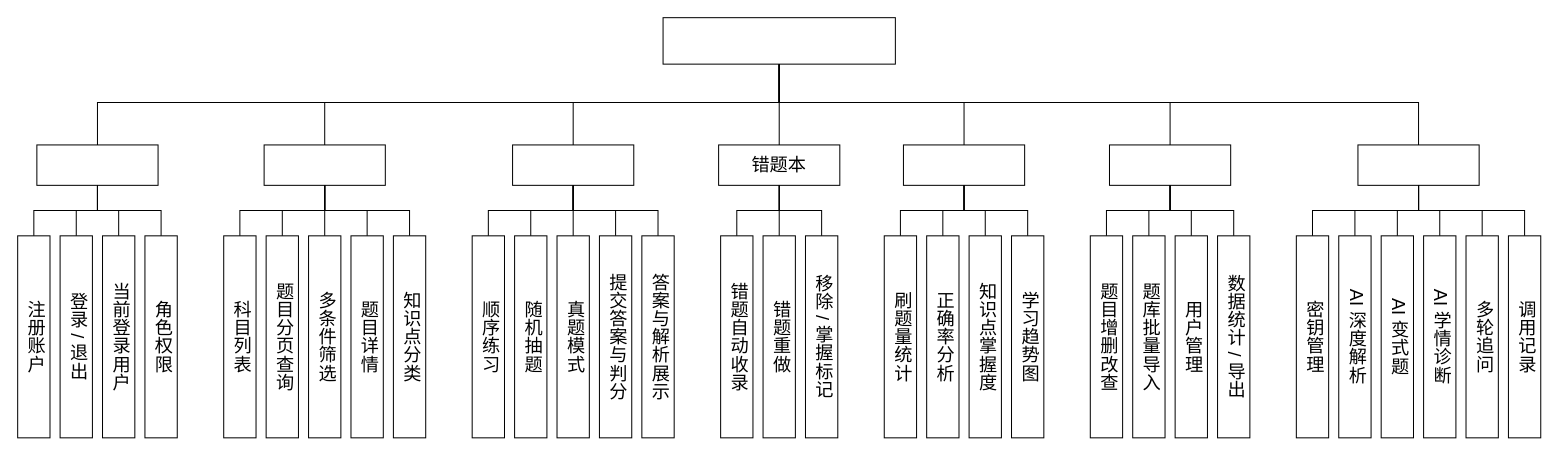
Some shapes in this 1558 by 456 pixel diagram are drawn without their labels. The shapes that lost their labels are listed below. From the top down, each one's box as (x1, y1, x2, y2) in pixels, then its label:
(662, 17, 895, 64): 统考408刷题软件
(36, 144, 158, 185): 用户与登录
(263, 144, 385, 185): 题库查询
(512, 144, 634, 185): 做题与判卷
(902, 144, 1025, 185): 学习统计
(1108, 144, 1231, 185): 管理后台
(1357, 144, 1479, 185): AI 助教
